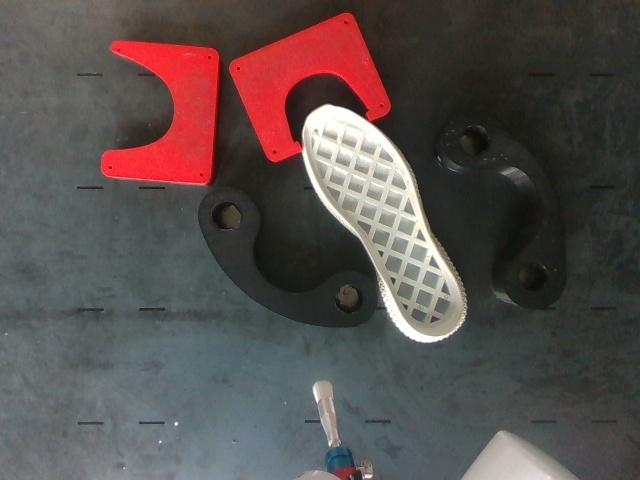shoes: (304, 106, 464, 337)
